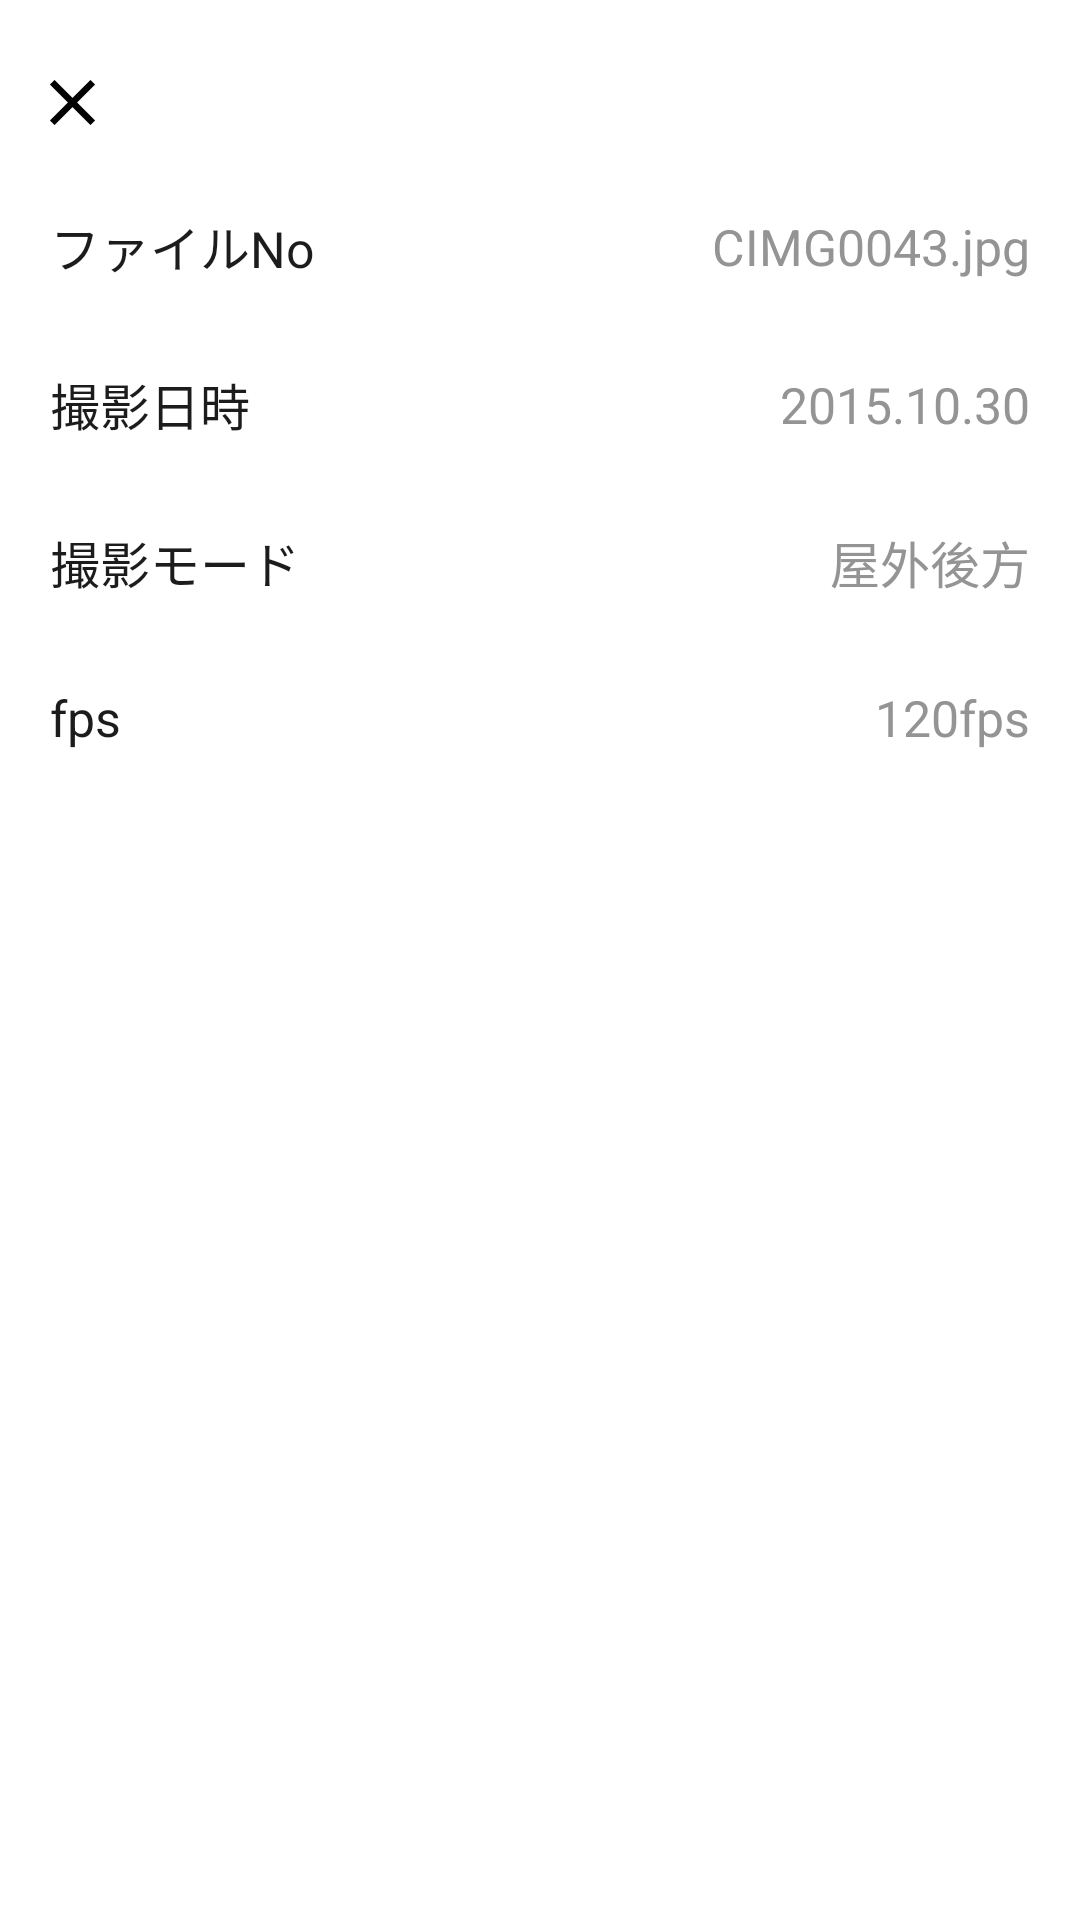

Locate icon controls on the screen. Image size 1080 × 1920, boxes as Rect(x1, y1, x2, y2).
close blk: Rect(50, 80, 95, 125)
